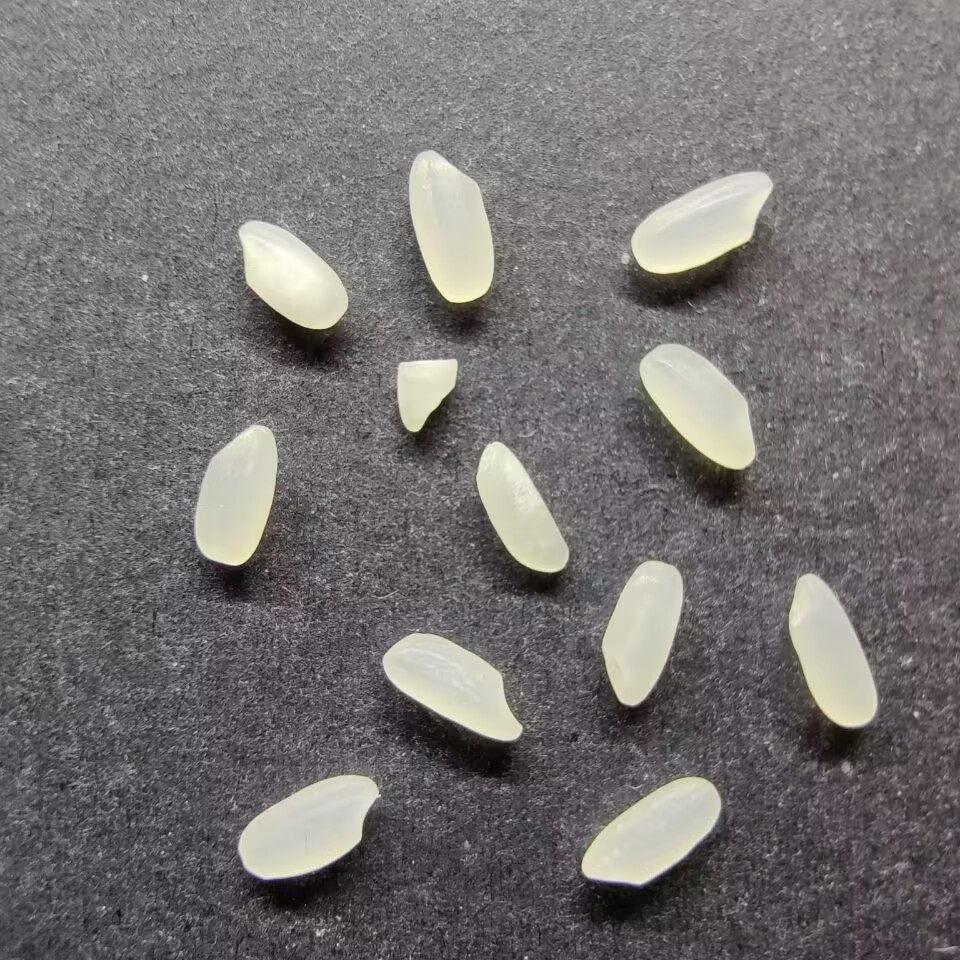broken: (396, 356, 461, 436)
rice: (579, 774, 725, 885), (236, 773, 381, 881), (382, 633, 524, 742), (630, 168, 775, 274), (638, 341, 757, 470), (786, 574, 879, 728), (407, 148, 496, 305), (474, 440, 570, 574), (235, 218, 348, 331), (598, 559, 684, 707), (192, 424, 278, 565)
